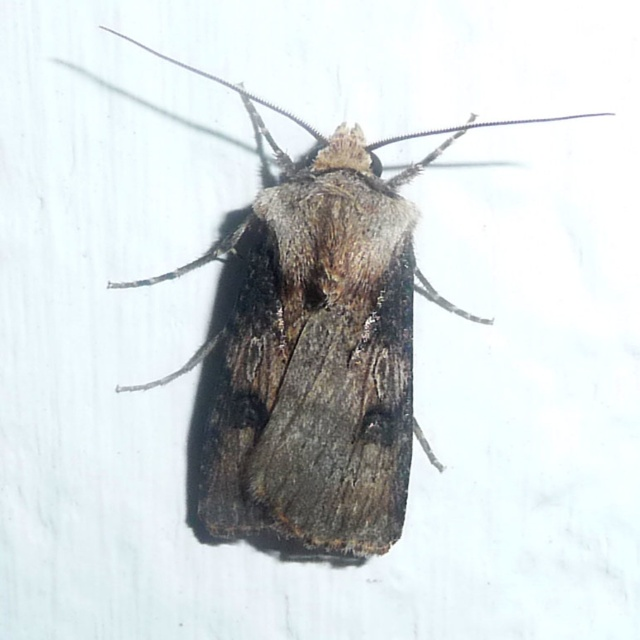Moths and butterflies: (97, 26, 618, 560)
